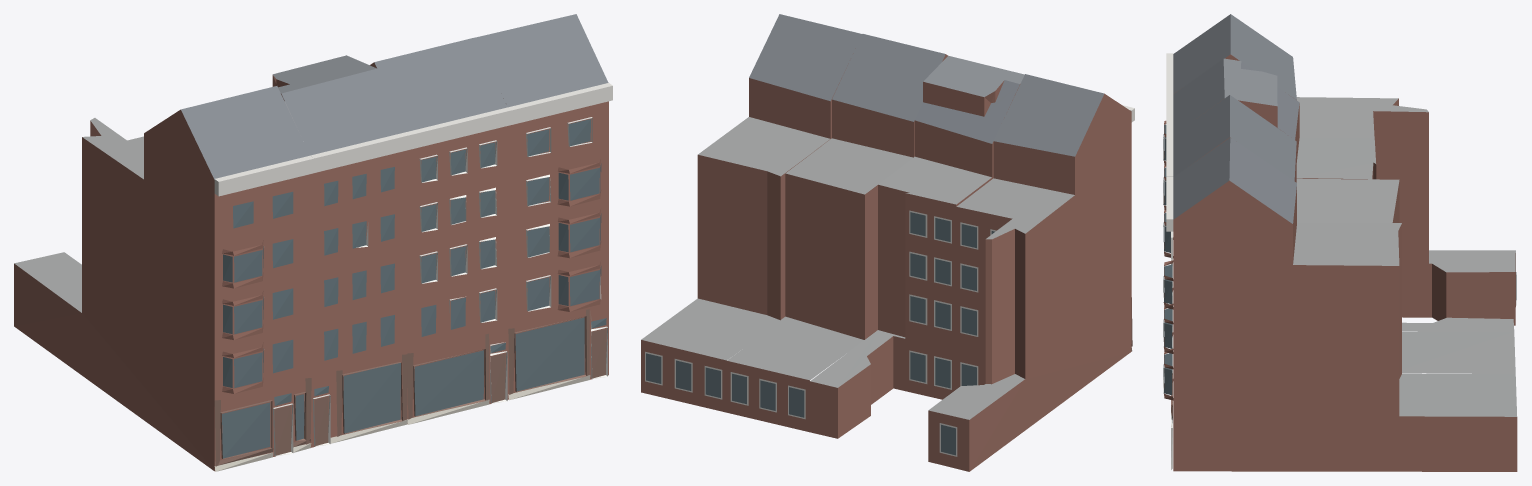
The model's file is chunk-face-bilder-080336-090492.lod2.glb.
3 renders of one model, left to right at view 1: azimuth 30°, elevation 25°; view 2: azimuth 150°, elevation 25°; view 3: azimuth 270°, elevation 25°, orthographic. The views are drawn at different scales.
Parts seen in each view (by area): view 1: lod2; view 2: lod2; view 3: lod2.
Part boxes in pixels (x1=…): lod2: x1=14, y1=14, x2=612, y2=471; lod2: x1=641, y1=14, x2=1134, y2=471; lod2: x1=1163, y1=14, x2=1517, y2=471.
Bounding box in the file's own units: 22.78 × 18.52 × 20.4.
